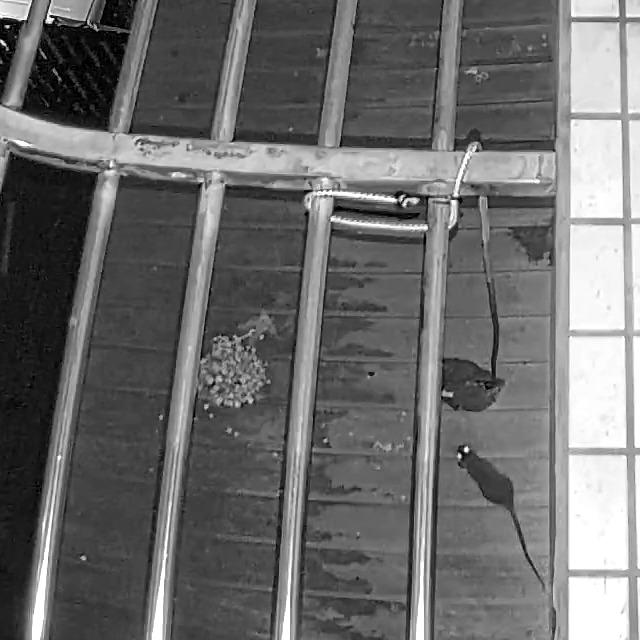rat: (454, 442, 547, 595)
